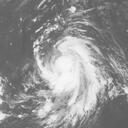cyclone: (46, 40, 86, 95)
